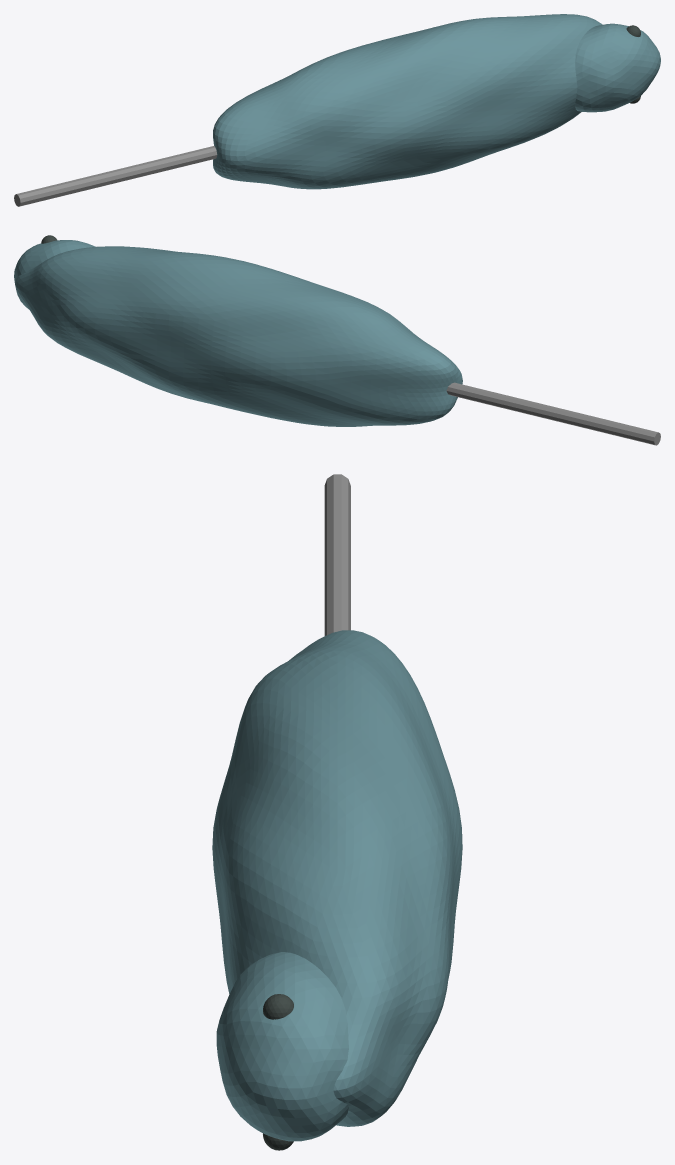
The model's file is Bana_Leviathan_Hero_Blockout.glb.
3 views of the same model, one above another, from view 1: azimuth 30°, elevation 25°; view 2: azimuth 150°, elevation 25°; view 3: azimuth 270°, elevation 25° (orthographic). The views are drawn at different scales.
Parts seen in each view (by area): view 1: world; view 2: world; view 3: world.
Part boxes in pixels (left/top/right/bottom): world: left=14, top=14, right=660, bottom=206; world: left=14, top=235, right=660, bottom=445; world: left=212, top=474, right=462, bottom=1150.
Bounding box in the file's own units: 14.93 × 3.07 × 2.57.
